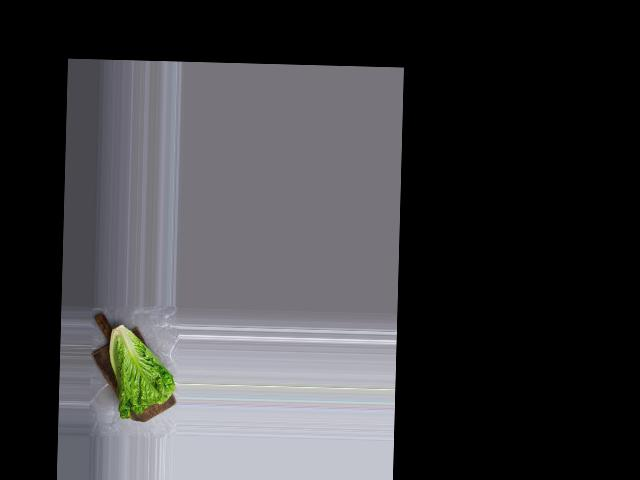lettuce: (88, 307, 175, 420)
